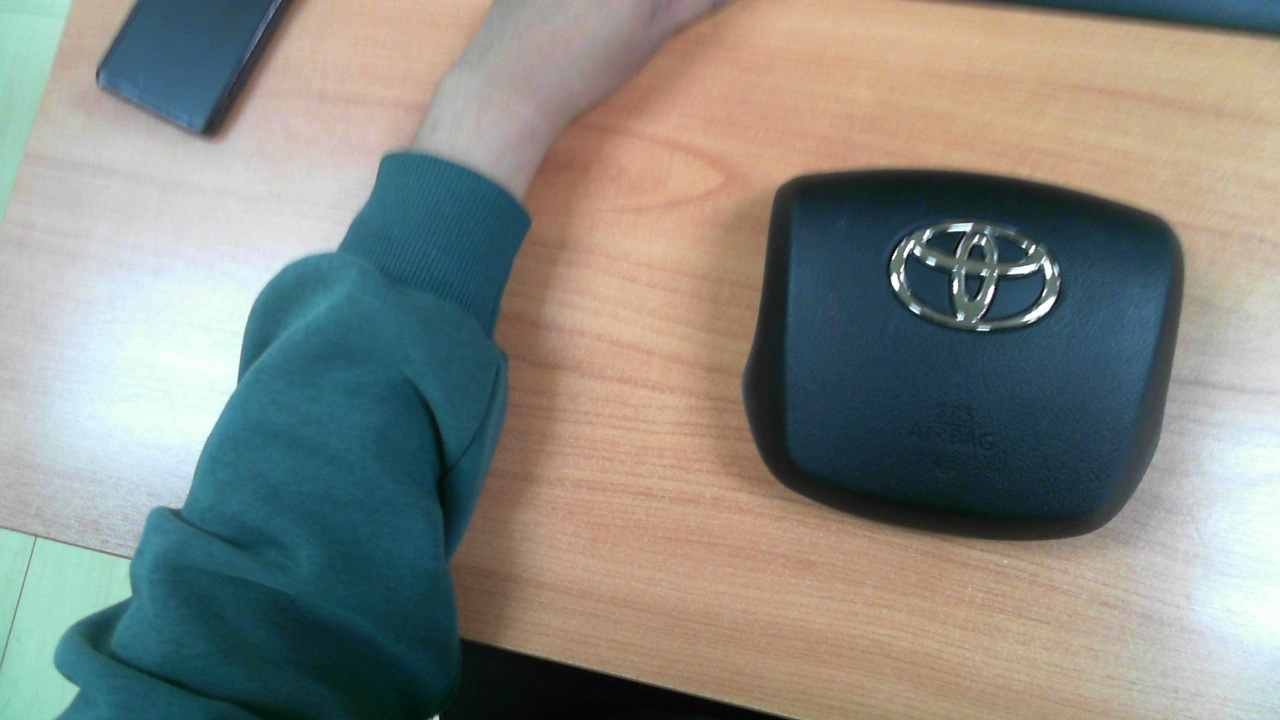Airbag: (742, 169, 1186, 543)
Toyota: (889, 222, 1061, 331)
